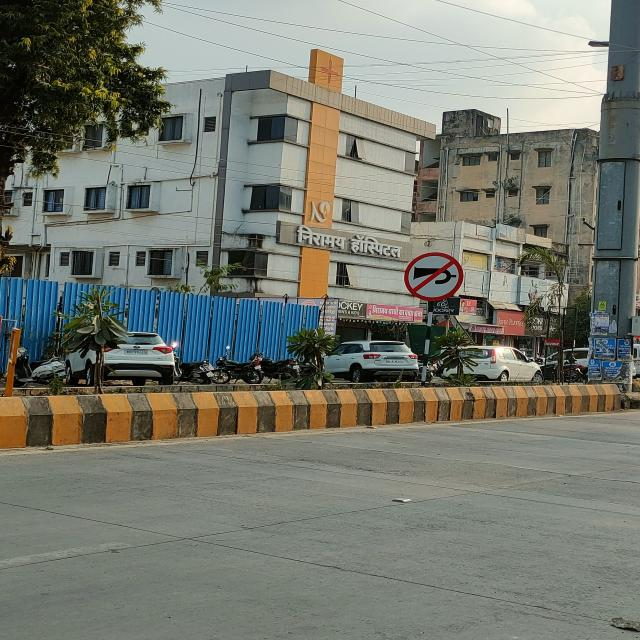HORN_PROHIBITED: (403, 252, 464, 301)
